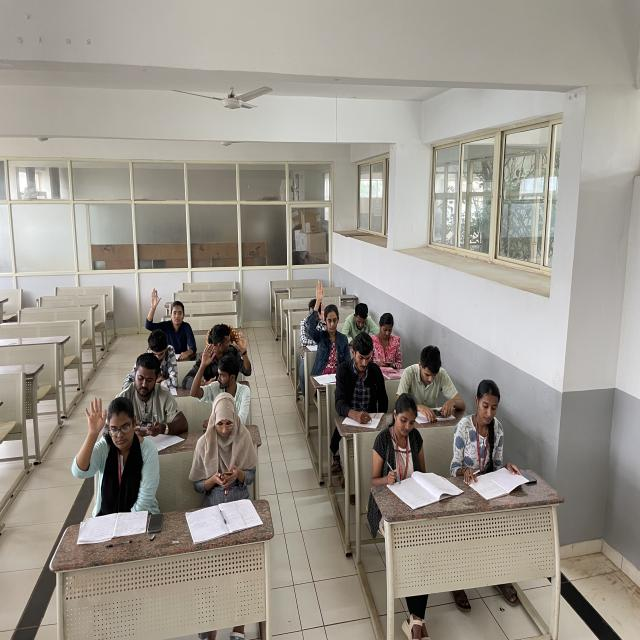Hand Rising: (69, 394, 166, 534), (189, 341, 253, 415), (306, 280, 348, 370), (140, 285, 197, 348)
Reading: (454, 379, 520, 494), (370, 392, 434, 498), (143, 328, 178, 394)
Using Phone: (185, 387, 264, 508), (108, 352, 190, 444), (406, 345, 466, 423), (371, 312, 404, 371), (343, 301, 377, 344)
Writing: (332, 329, 389, 432)
